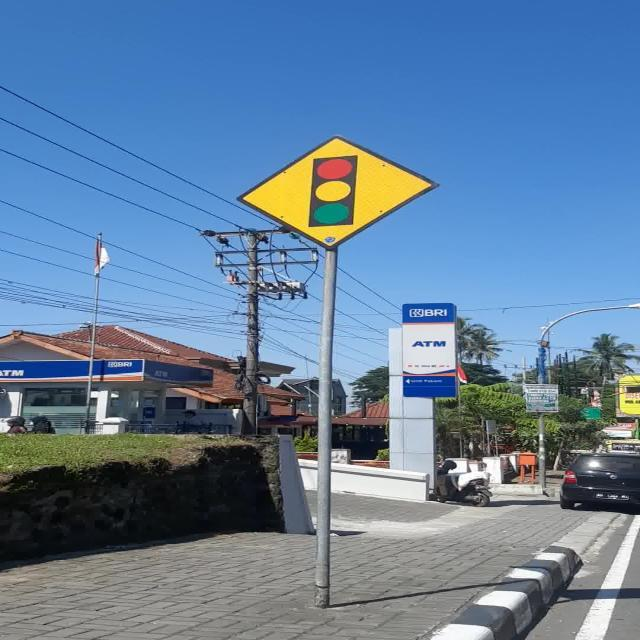Lampu Lalu Lintas: (236, 135, 439, 250)
